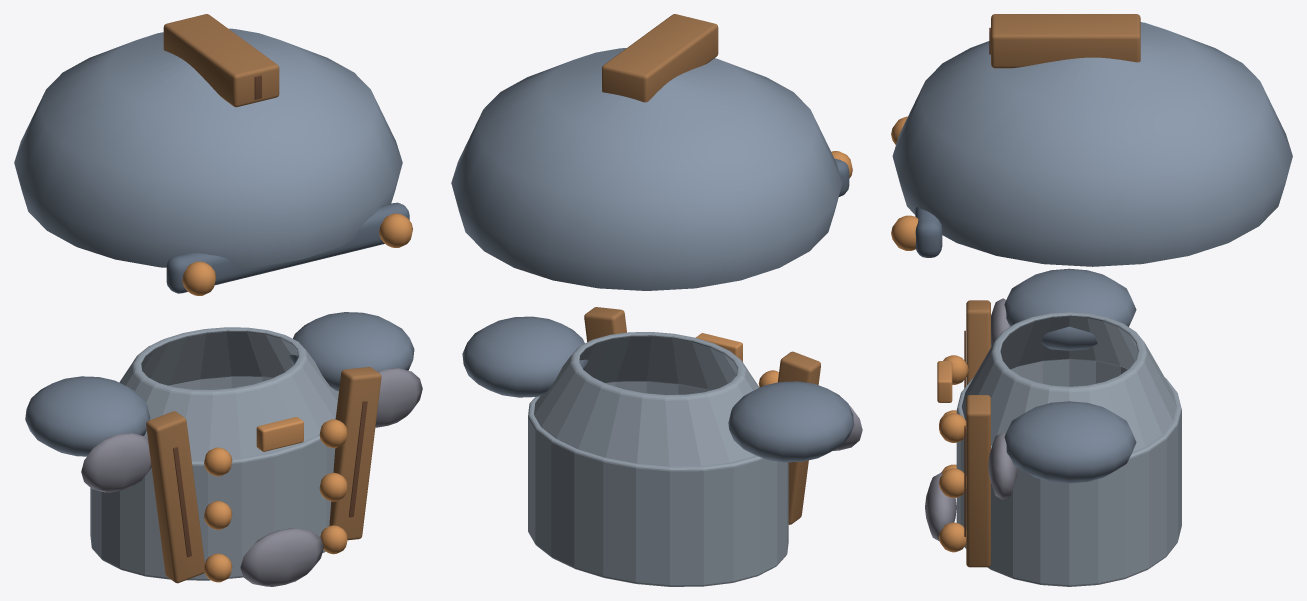
File: armor_ironplate.glb
3 renders of one model, left to right at view 1: azimuth 30°, elevation 25°; view 2: azimuth 150°, elevation 25°; view 3: azimuth 270°, elevation 25°, orthographic. The views are drawn at different scales.
Visible parts, largest first — view 1: copper_helm_rivet, copper_iron_rivet, iron_pauldron, iron_pauldron.001; view 2: copper_helm_rivet, copper_iron_rivet, iron_pauldron, iron_pauldron.001; view 3: copper_helm_rivet, copper_iron_rivet, iron_pauldron.001, iron_pauldron.
Part boxes in pixels (left/top/right/bottom): copper_helm_rivet: left=14, top=14, right=412, bottom=295; copper_iron_rivet: left=90, top=327, right=381, bottom=586; iron_pauldron: left=25, top=376, right=151, bottom=492; iron_pauldron.001: left=289, top=312, right=422, bottom=427; copper_helm_rivet: left=451, top=14, right=852, bottom=290; copper_iron_rivet: left=528, top=307, right=820, bottom=586; iron_pauldron: left=728, top=381, right=862, bottom=462; iron_pauldron.001: left=462, top=316, right=588, bottom=397; copper_helm_rivet: left=891, top=14, right=1292, bottom=266; copper_iron_rivet: left=925, top=300, right=1181, bottom=586; iron_pauldron.001: left=988, top=401, right=1136, bottom=499; iron_pauldron: left=991, top=268, right=1136, bottom=350.
Bounding box in the file's own units: 0.89 × 1.13 × 0.807.
